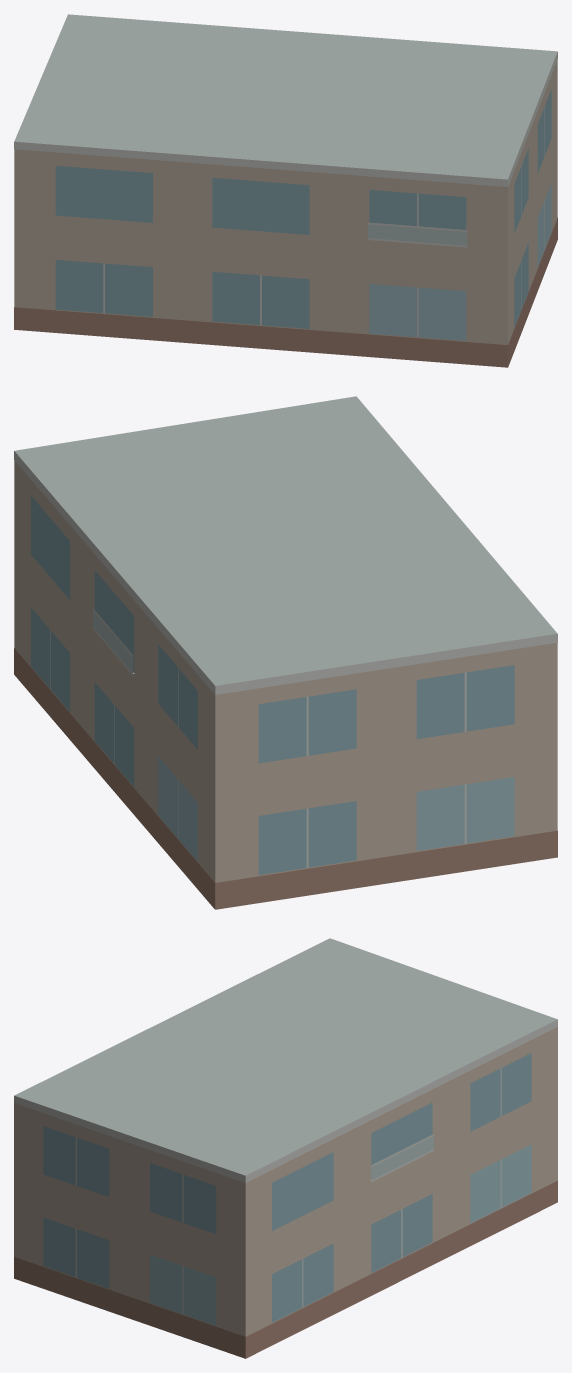
The model's file is survey-upis-33020698.glb.
3 renders of one model, top to bottom at view 1: azimuth 30°, elevation 25°; view 2: azimuth 150°, elevation 25°; view 3: azimuth 270°, elevation 25°, orthographic. The views are drawn at different scales.
Parts seen in each view (by area): view 1: survey-upis-33020698.tmp; view 2: survey-upis-33020698.tmp; view 3: survey-upis-33020698.tmp.
Boxes of the visible parts, left/top/right/bottom form: survey-upis-33020698.tmp: left=14, top=14, right=557, bottom=367; survey-upis-33020698.tmp: left=14, top=396, right=557, bottom=909; survey-upis-33020698.tmp: left=14, top=938, right=557, bottom=1358.
Bounding box in the file's own units: 16.99 × 6.1 × 16.43.
